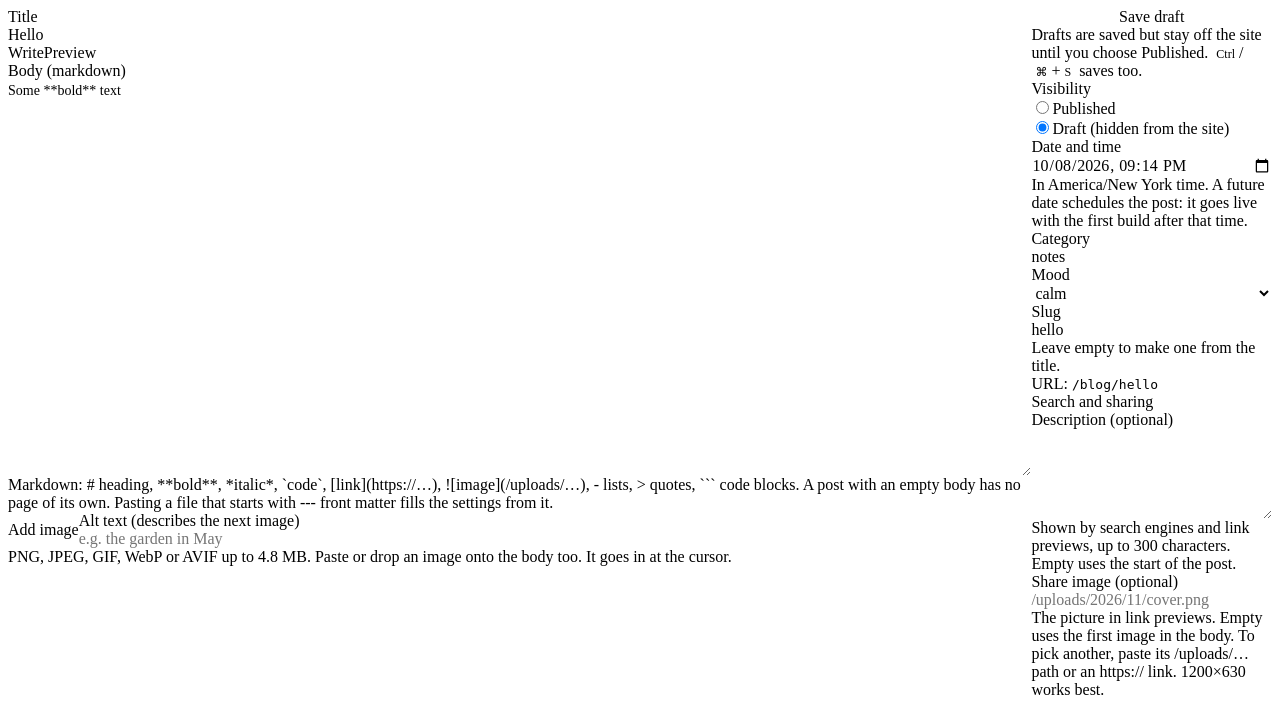
Test: the save button says whether a save publishes › a draft post being published says Publish post
Expected: the button "Save draft" is shown, x1=1031 y1=8 x2=1272 y2=26
Click the radio button labelled "Published" at (1043, 108), box x1=1036 y1=101 x2=1049 y2=114
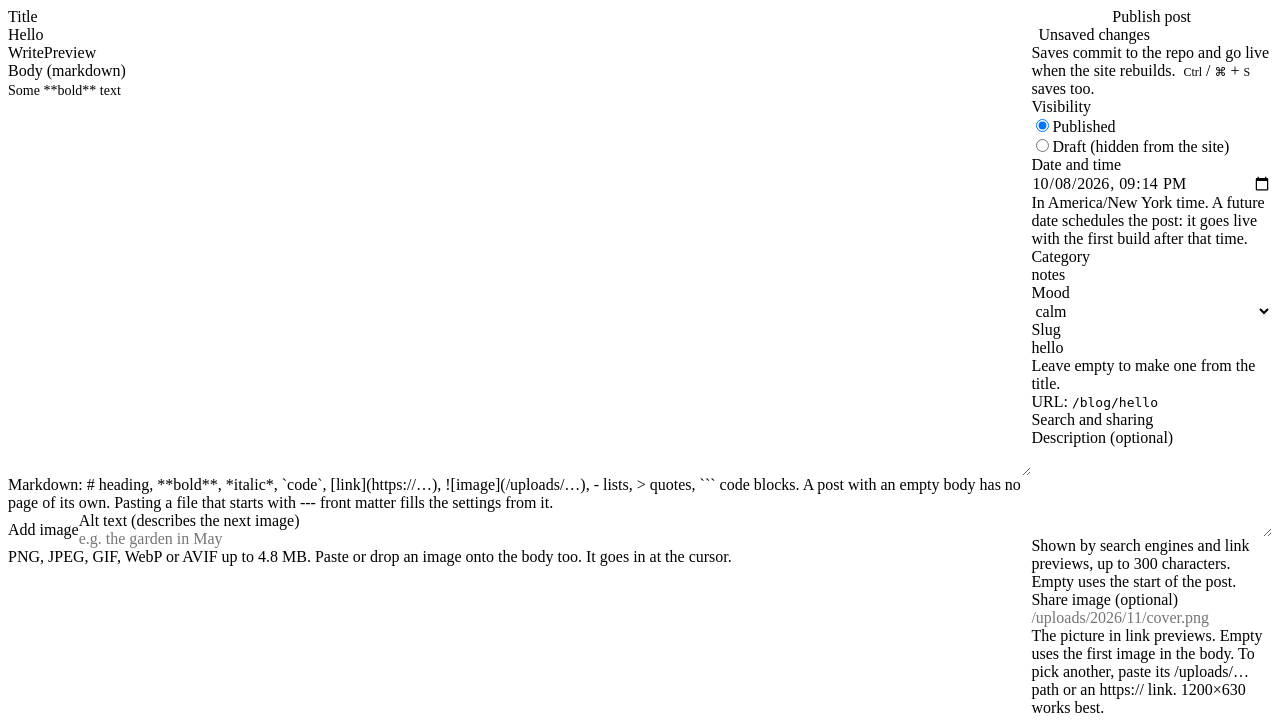
Expected: the button "Publish post" is shown, x1=1031 y1=8 x2=1272 y2=26
